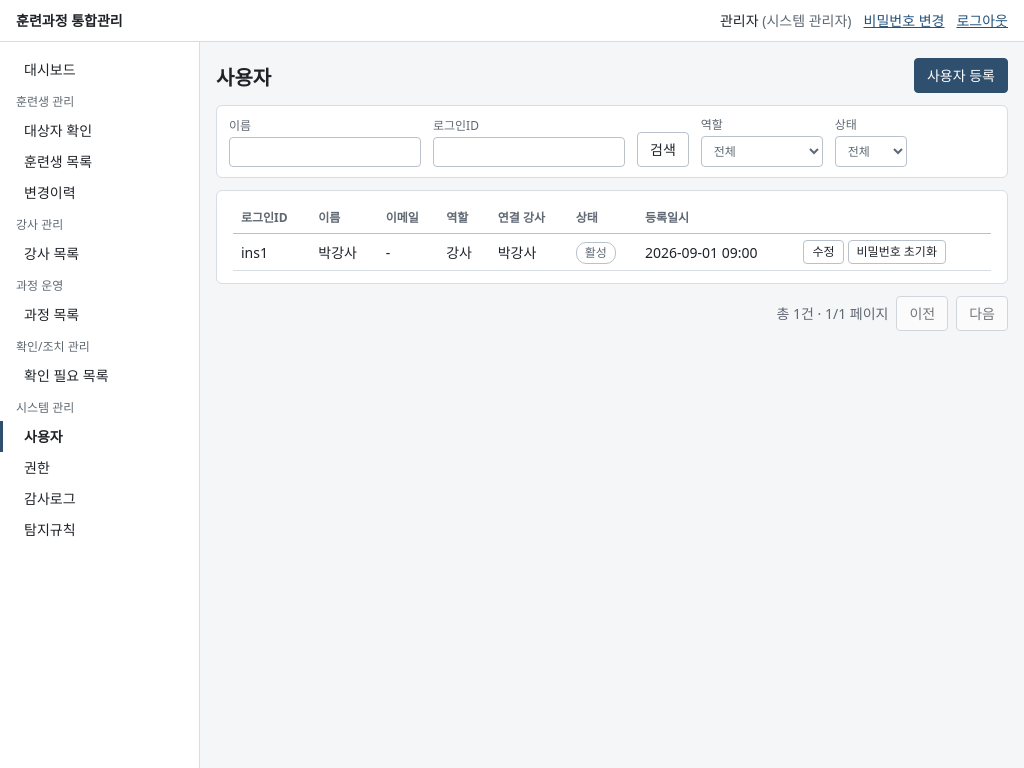
Test: S25 사용자 › 비밀번호 초기화 → 새 임시 비밀번호 1회 표시
Click the button with aria-label "ins1 비밀번호 초기화" at (897,252), box [848,240,946,264]
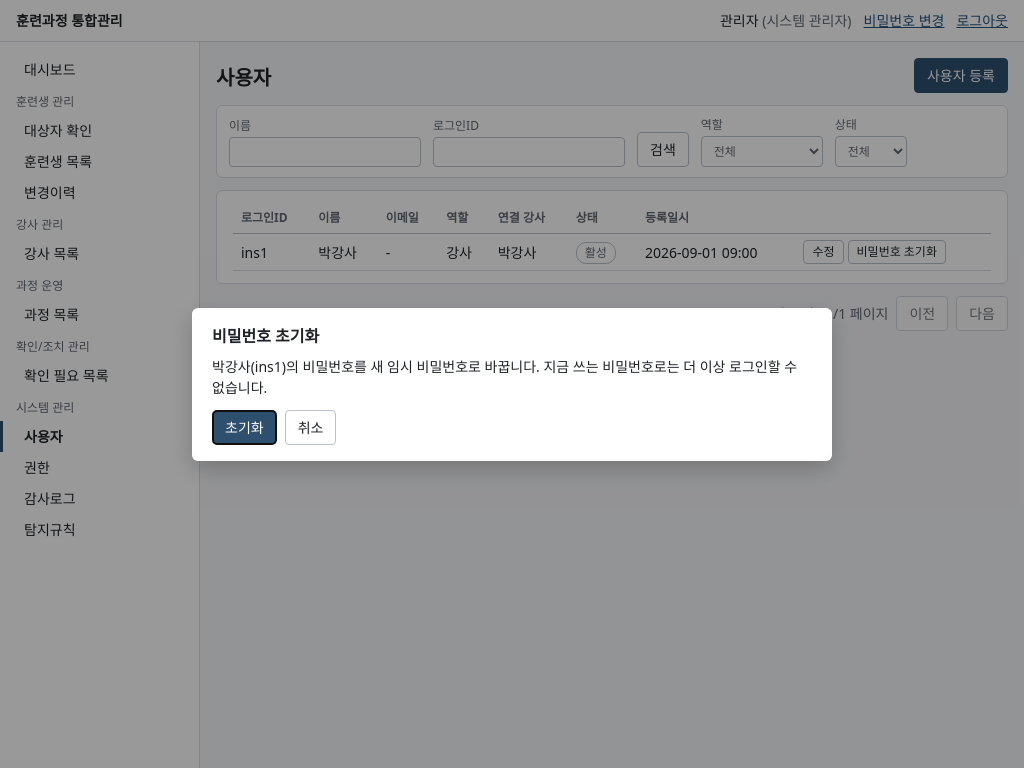
Click the button "초기화" at (244,427), box [212,410,277,444]
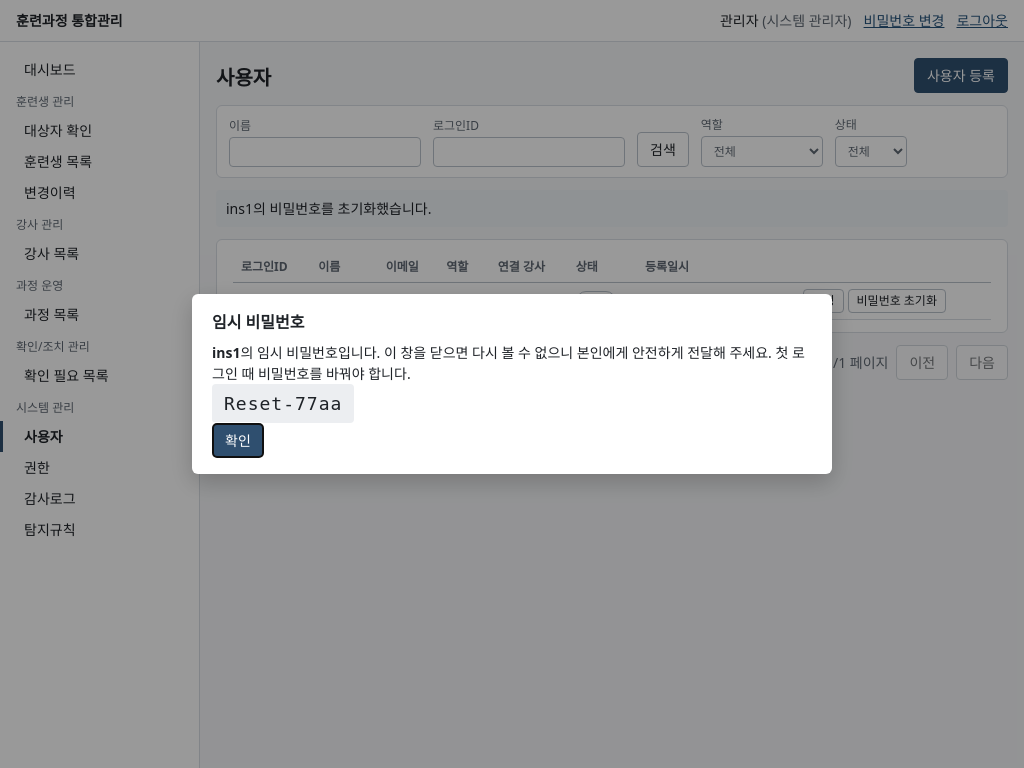
Now the text "Reset-77aa" is shown, box [212,384,354,423]
Now the text "ins1의 비밀번호를 초기화했습니다." is shown, box [216,190,1008,227]
